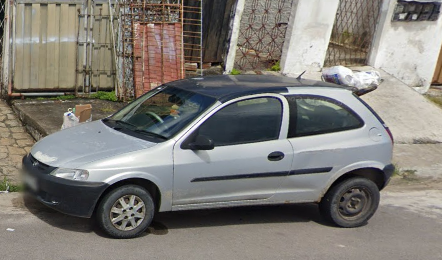car: (22, 74, 395, 240)
